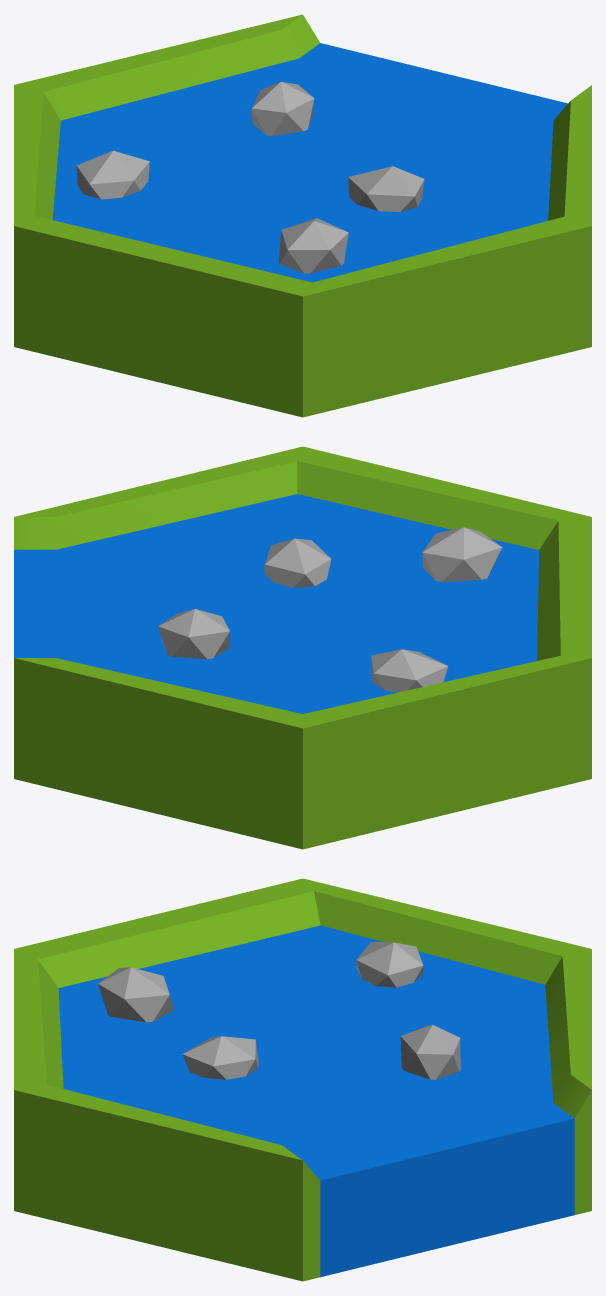
File: Lago.fbx
3 renders of one model, top to bottom at view 1: azimuth 30°, elevation 25°; view 2: azimuth 150°, elevation 25°; view 3: azimuth 270°, elevation 25°, orthographic.
Parts seen in each view (by area): view 1: Lago; view 2: Lago; view 3: Lago.
Boxes of the visible parts, <box> form: Lago: <box>14,14,591,417</box>; Lago: <box>14,446,591,849</box>; Lago: <box>14,878,591,1281</box>.
Bounding box in the file's own units: 200 × 45.21 × 173.
